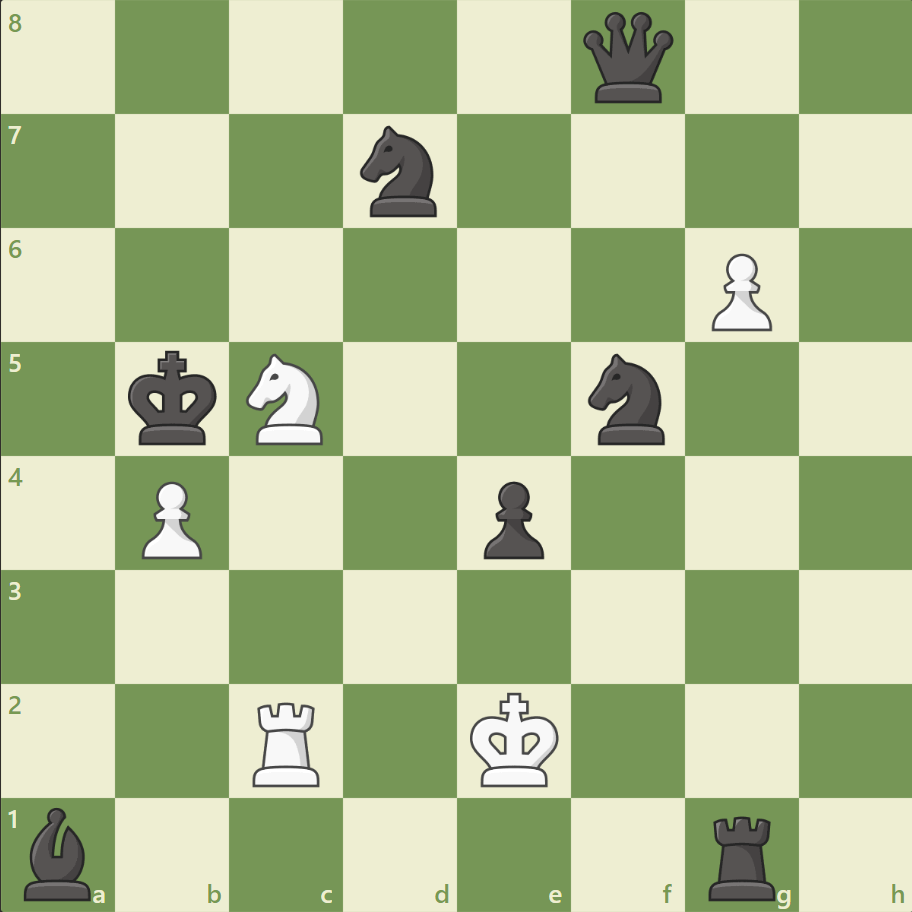K: (465, 685, 565, 793)
N: (238, 348, 335, 450)
P: (701, 246, 776, 337), (133, 473, 208, 564)
R: (246, 693, 329, 790)
b: (17, 801, 101, 904)
k: (124, 344, 224, 452)
n: (351, 121, 449, 223), (579, 348, 676, 450)
p: (474, 473, 549, 564)
q: (578, 9, 677, 108)
r: (700, 806, 783, 904)
